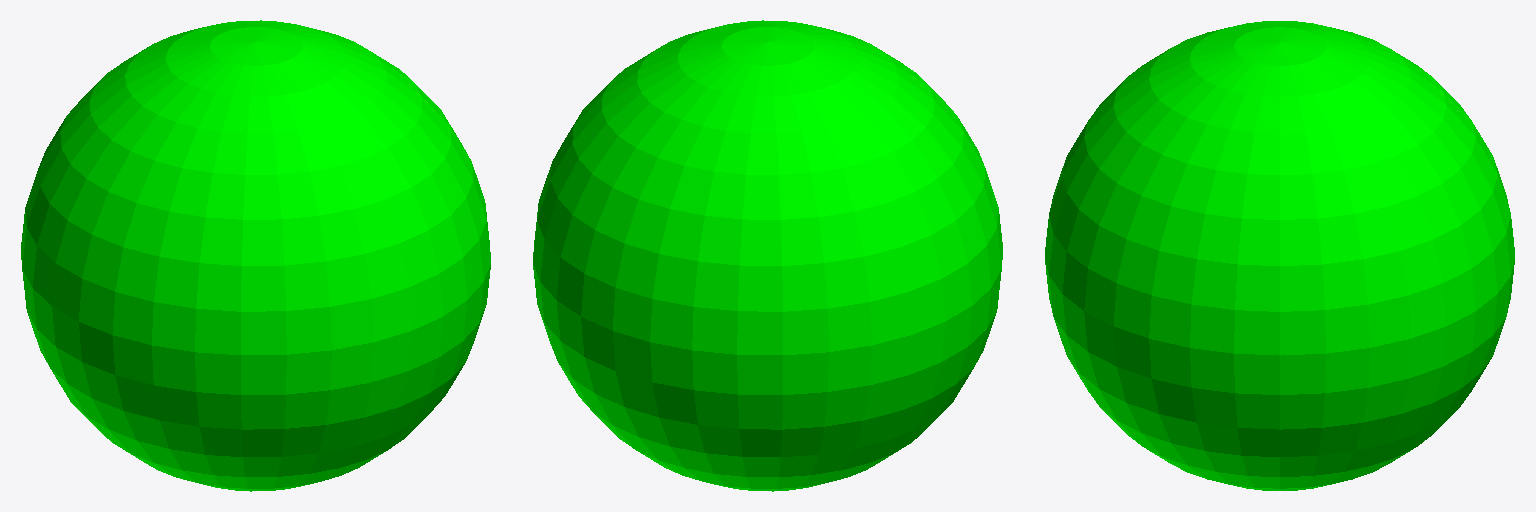
URDF robot description (SphereDE1):
<?xml version="1.0"?>
<robot name="SphereDE1">
	<link name="base">  
	<inertial>
        	 <origin xyz="0 0 0" rpy="0 0 0"/>
        	 <mass value="1"/>
        	 <inertia ixx="0.000036"  ixy="0"  ixz="0" iyy="0.000036" iyz="0" izz="0.000036" />
       </inertial>   
	<visual>
		<origin xyz="0.0 0.0 0.0" rpy="0 0 0" />
       			<geometry>
         			<sphere radius="0.010"/>
       			</geometry>
       			<material>
				<color rgba="0 1 0 1" />
			</material>
    	
	</visual>
	<collision>
			<origin xyz="0 0 0" rpy="0 0 0" />
			<geometry>
				<sphere radius="0.010"/>
			</geometry>
			
		</collision>
	</link>
</robot>

--- Facts derived from the render (not from the file) ---
Views: 3 orthographic renders of the robot side by side, from view 1: azimuth 30°, elevation 25°; view 2: azimuth 150°, elevation 25°; view 3: azimuth 270°, elevation 25°.
Model SphereDE1 with 1 links and 0 joints (none), rooted at base, posed all joints at 0.
Visible links, largest first — view 1: base; view 2: base; view 3: base.
Boxes of the visible links, x1,y1,x2,y2 form: base: (21,20,490,491); base: (533,20,1002,491); base: (1045,21,1514,490).
Size in the robot's own frame: 0.02 by 0.02 by 0.02 metres.
Geometry: primitives only (box / cylinder / sphere), no mesh files.
